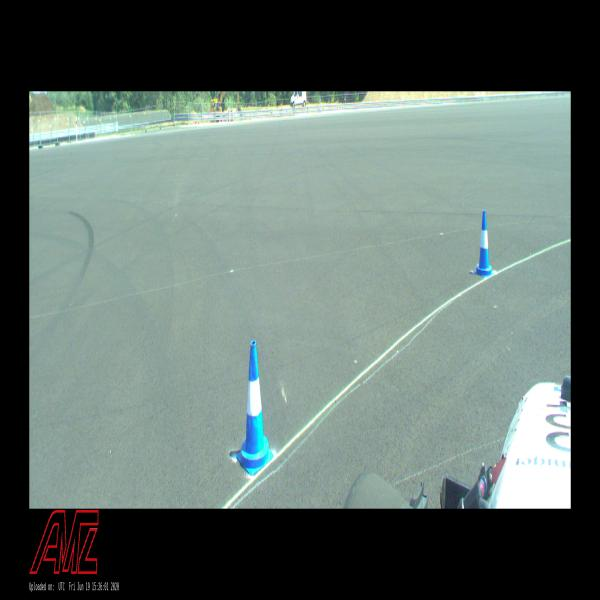blue_cone: (237, 340, 274, 477), (474, 210, 494, 278)
